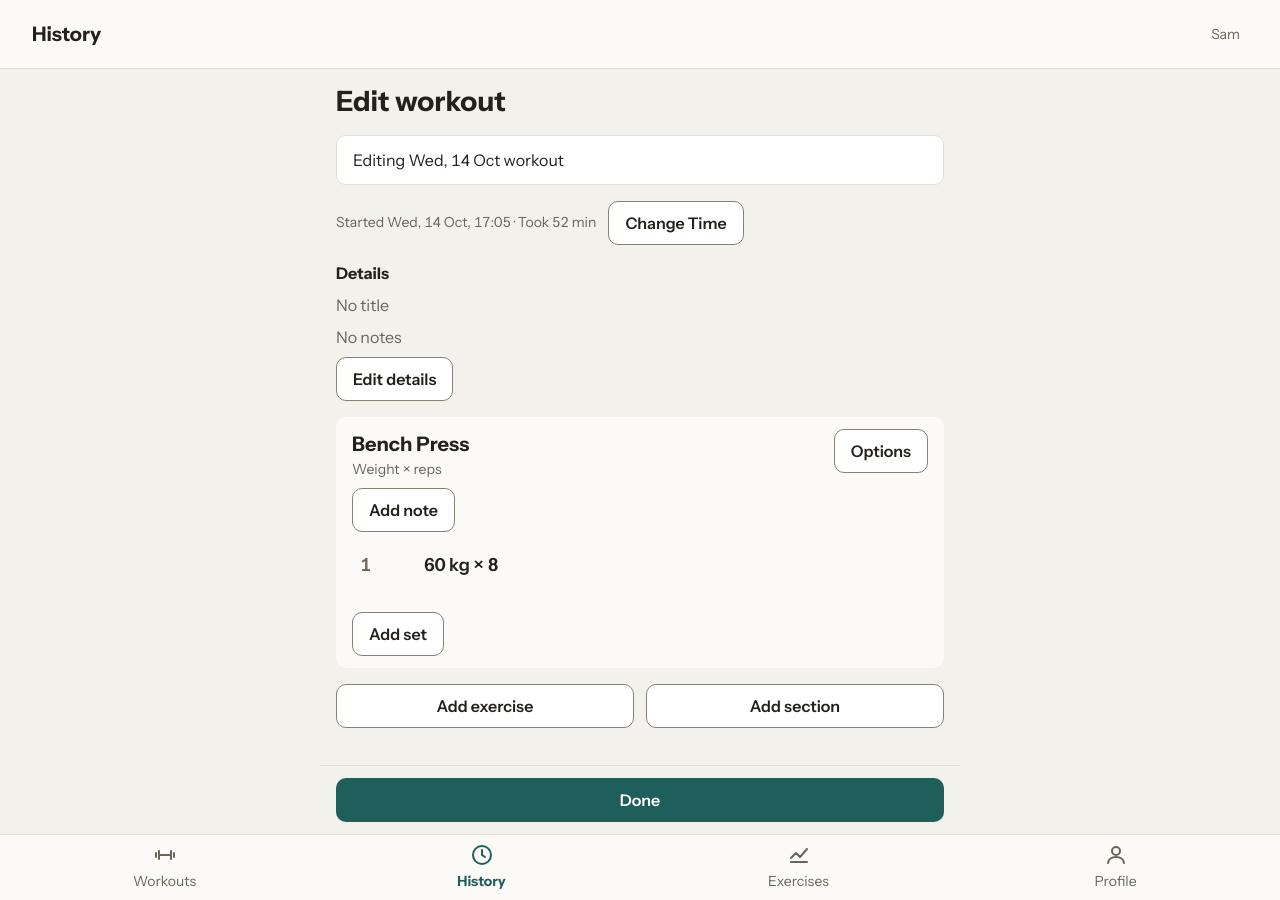
Scenario: 18.0 AC40 — Change Time on a finished workout › Took is required: emptied, it shows the copy and sends nothing
The image size is (1280, 900).
Expected: the heading "Edit workout" is shown, x1=336 y1=84 x2=506 y2=118
Click the button "Change Time".
click(676, 223)  # box x1=608 y1=201 x2=744 y2=245
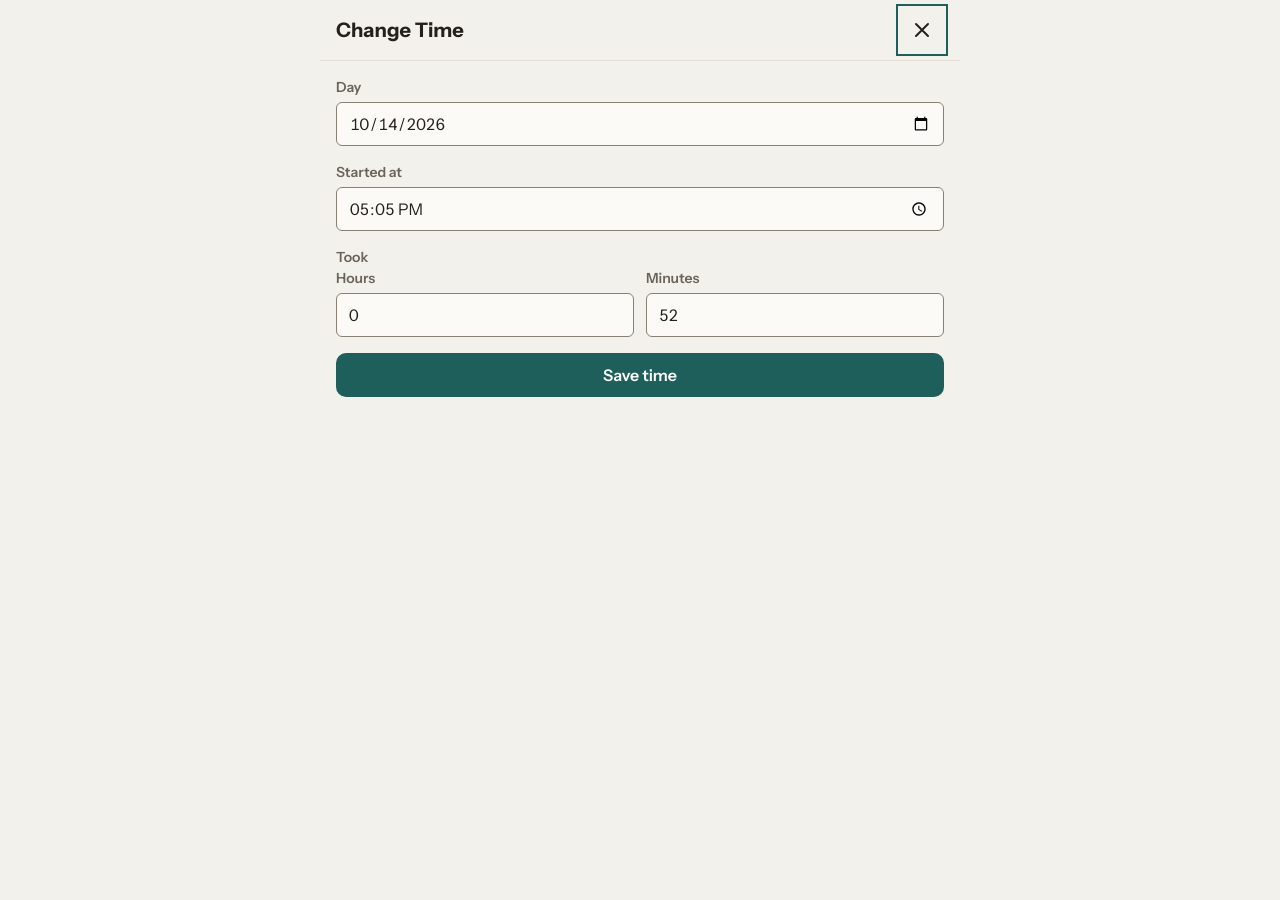
Clear the number field labelled "Hours" at (485, 315), box x1=336 y1=293 x2=634 y2=337
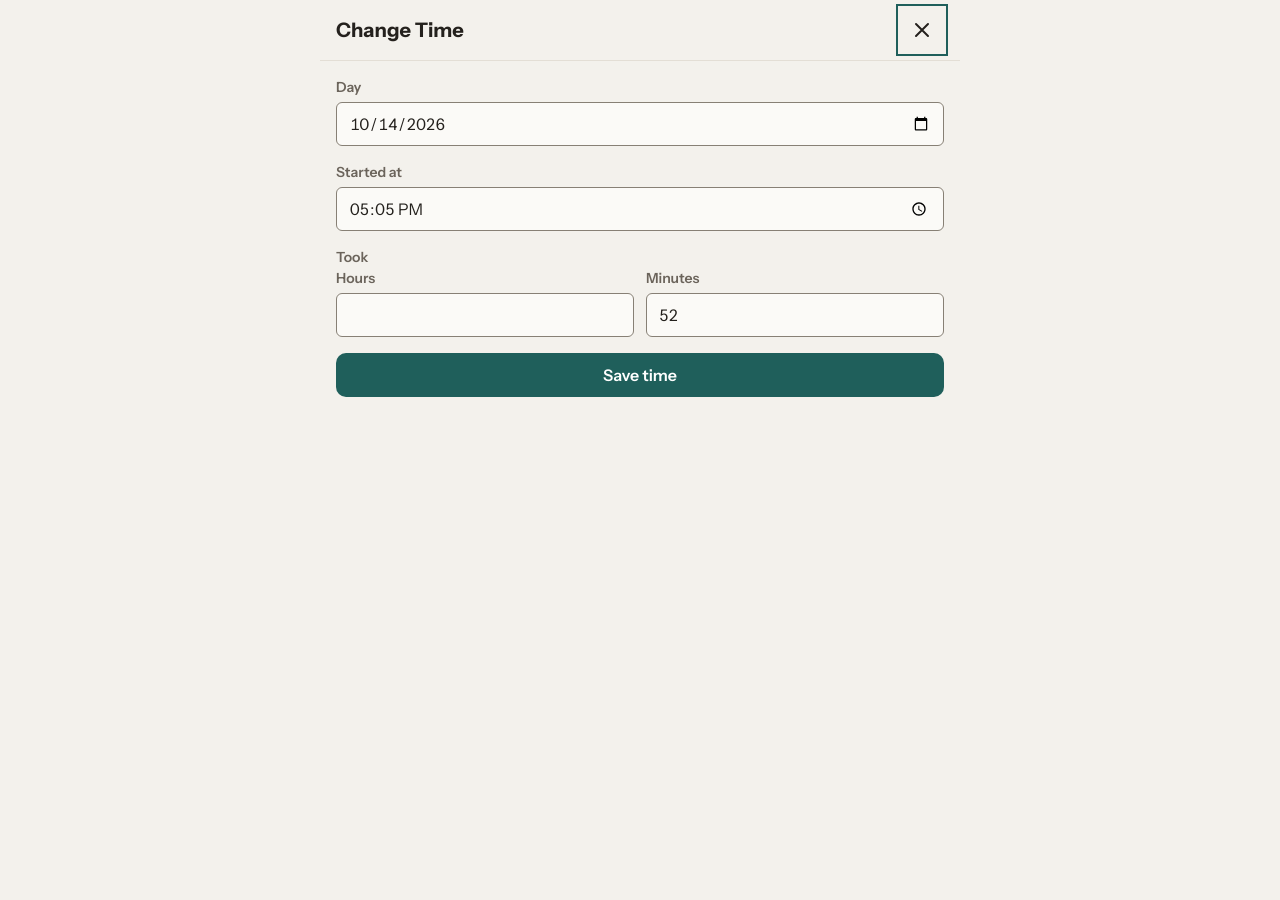
Clear the number field labelled "Minutes" at (795, 315), box x1=646 y1=293 x2=944 y2=337
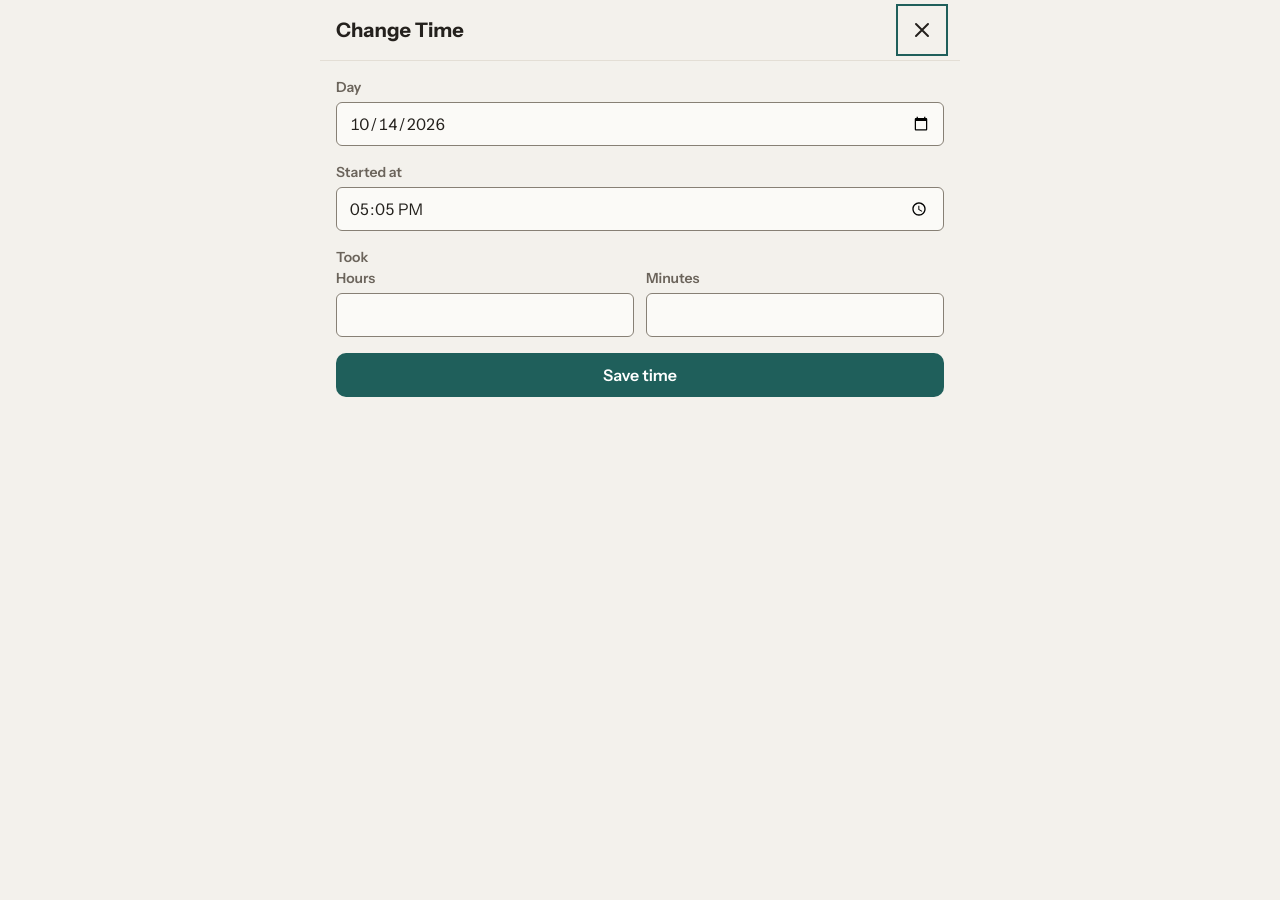
Click the button "Save time".
click(640, 375)  # box x1=336 y1=353 x2=944 y2=397
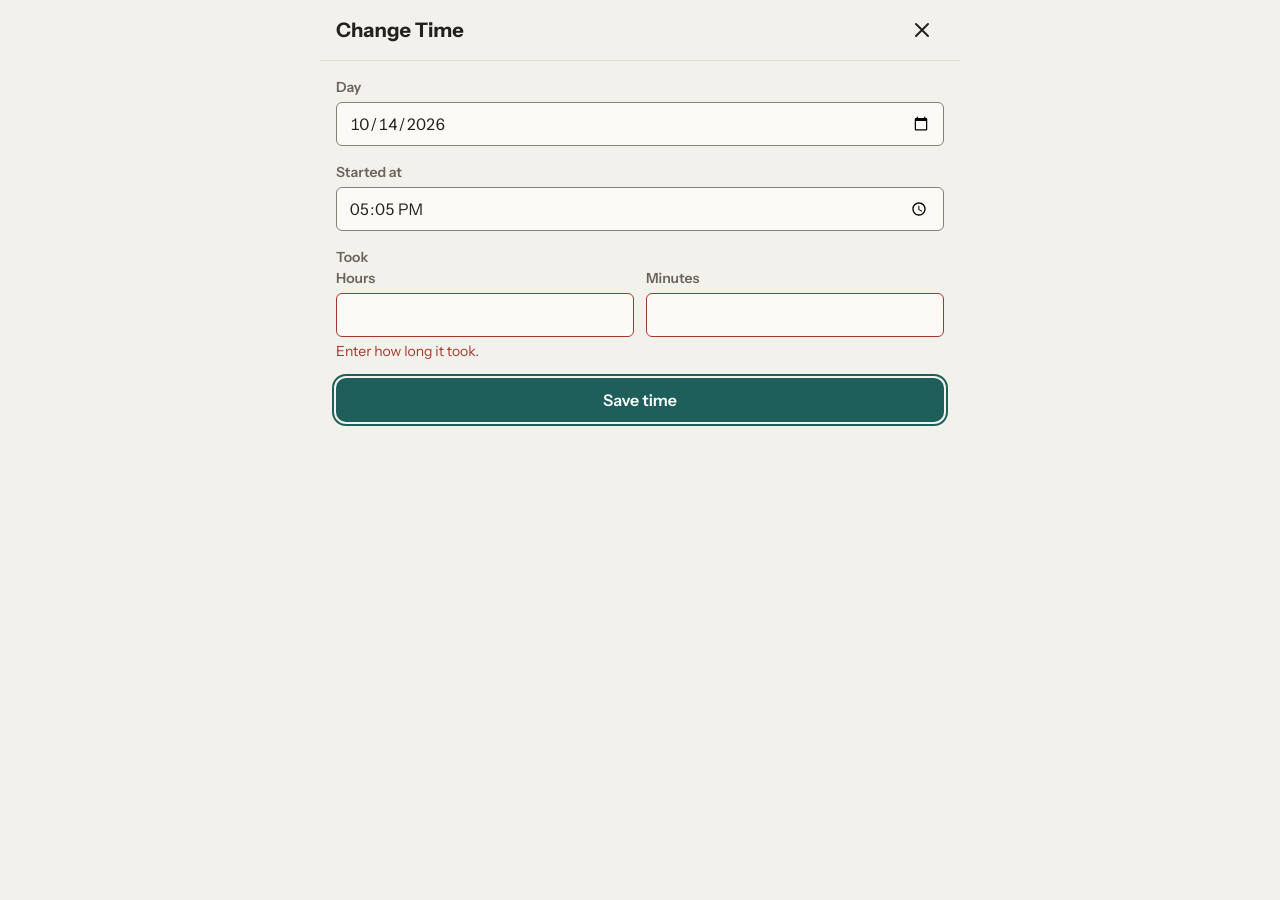
Now the text "Enter how long it took." is shown, box x1=336 y1=342 x2=479 y2=360
